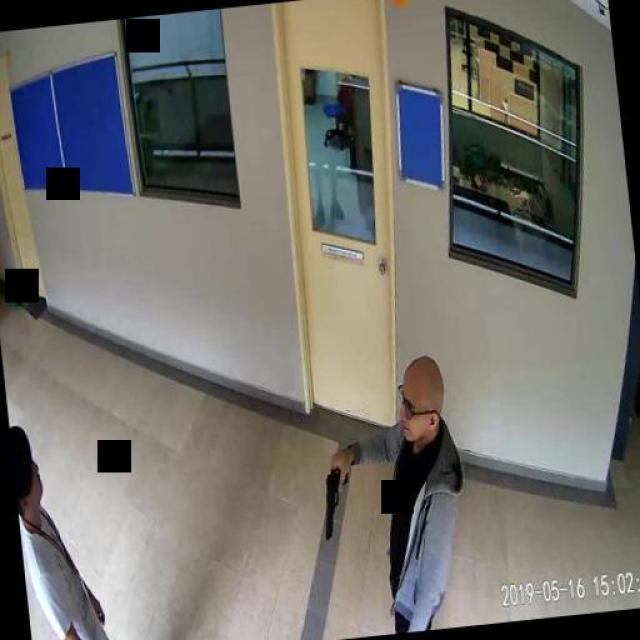gun: (316, 460, 352, 540)
